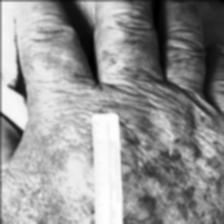Potentially Malignant Skin Tumors: (54, 145, 90, 177)
